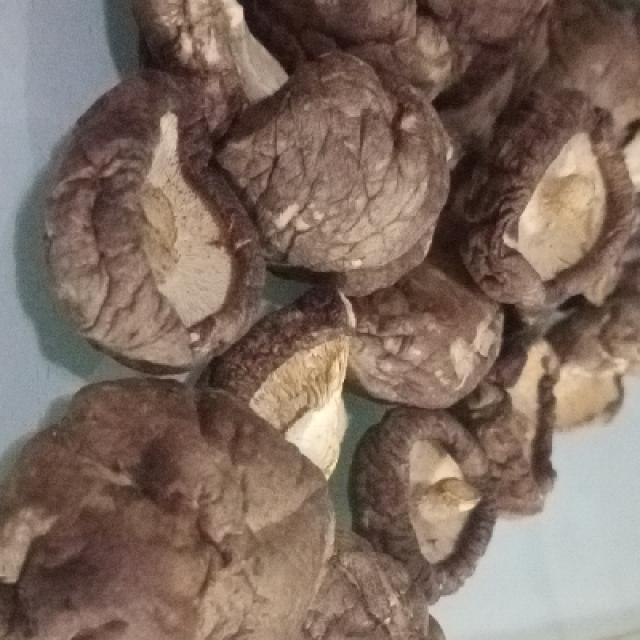Lentinus edodes: (59, 95, 265, 382), (216, 49, 456, 275), (469, 95, 628, 317), (354, 387, 495, 594), (338, 269, 508, 399), (471, 326, 559, 518)
